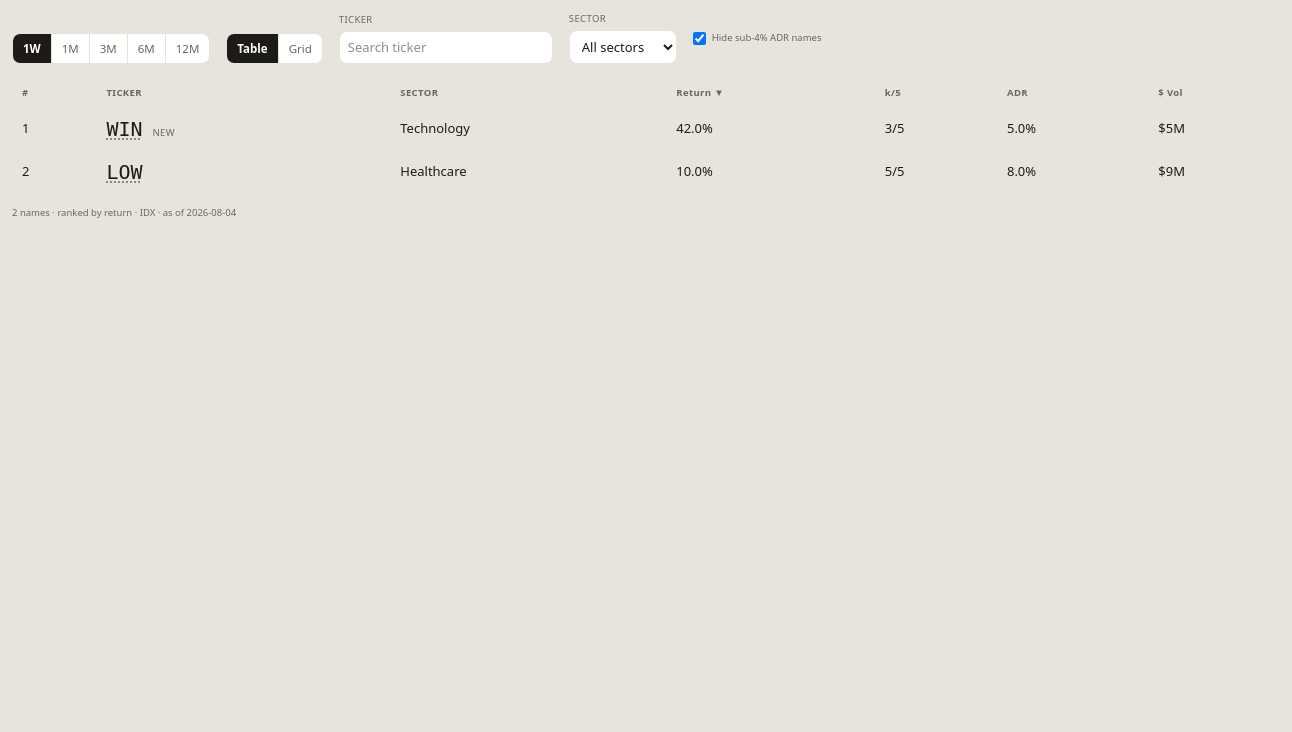
the Leaders screen › opens the chart sheet from a ticker button (spec §6.1)
Click the button "WIN": (124, 128) left=106, top=114, right=142, bottom=144
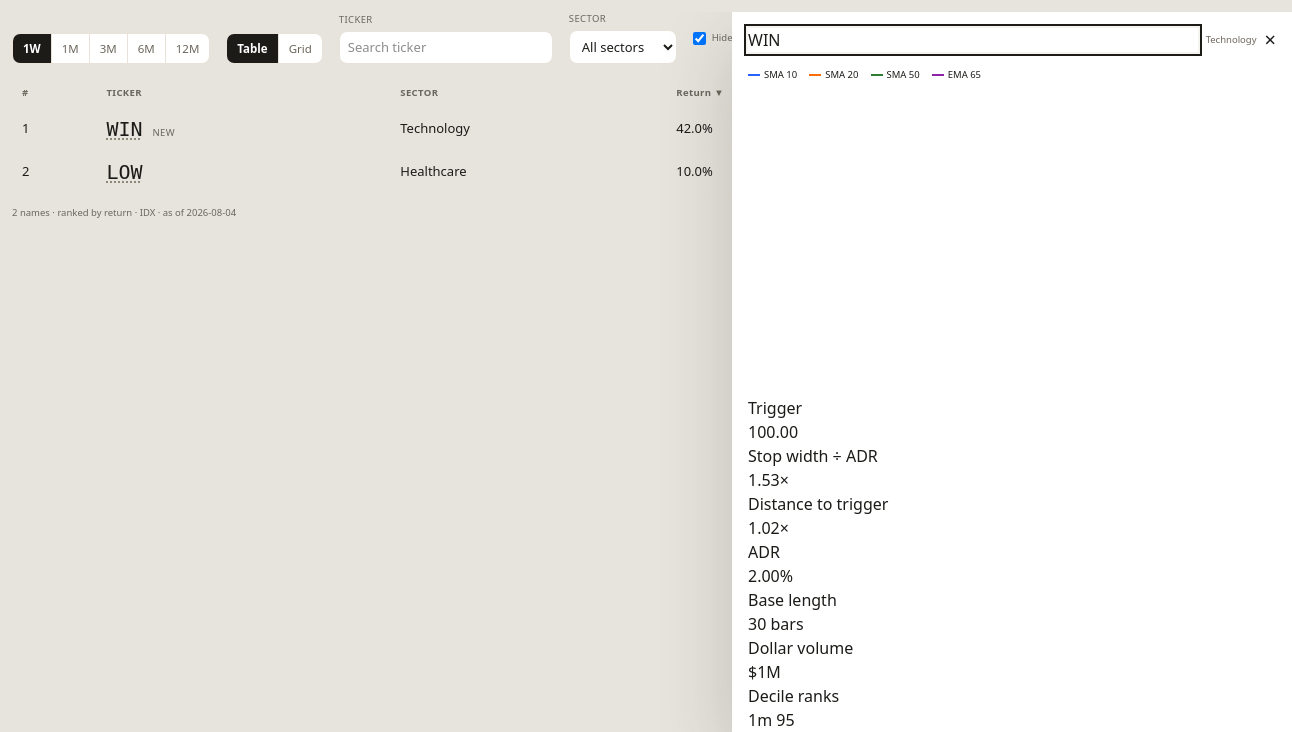
Check: the heading "WIN" is shown, box left=748, top=28, right=1198, bottom=52
